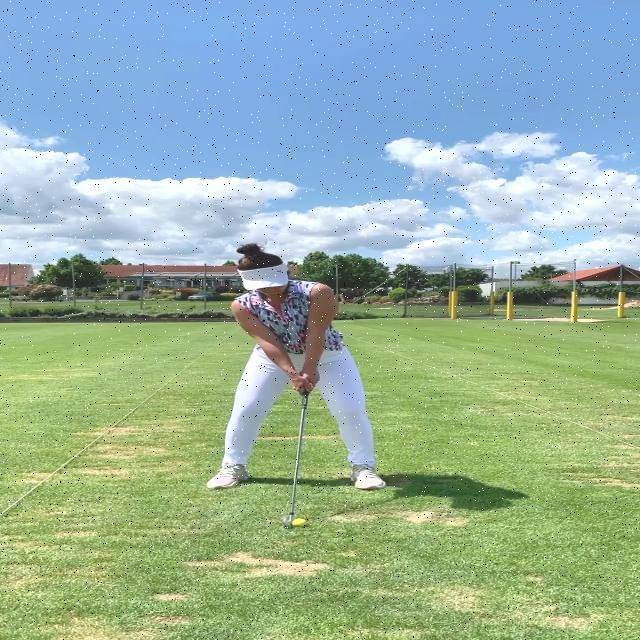golf ball: (295, 519, 310, 528)
golf club-handle: (271, 388, 317, 527)
golf club-head: (280, 517, 292, 527)
